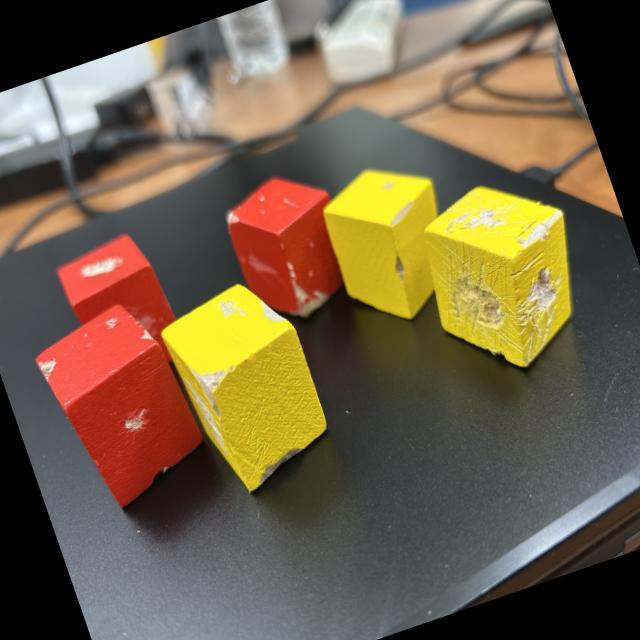broken: (402, 164, 606, 388), (26, 290, 218, 520), (152, 270, 342, 502), (310, 147, 472, 336), (216, 160, 364, 333), (52, 225, 190, 388)
